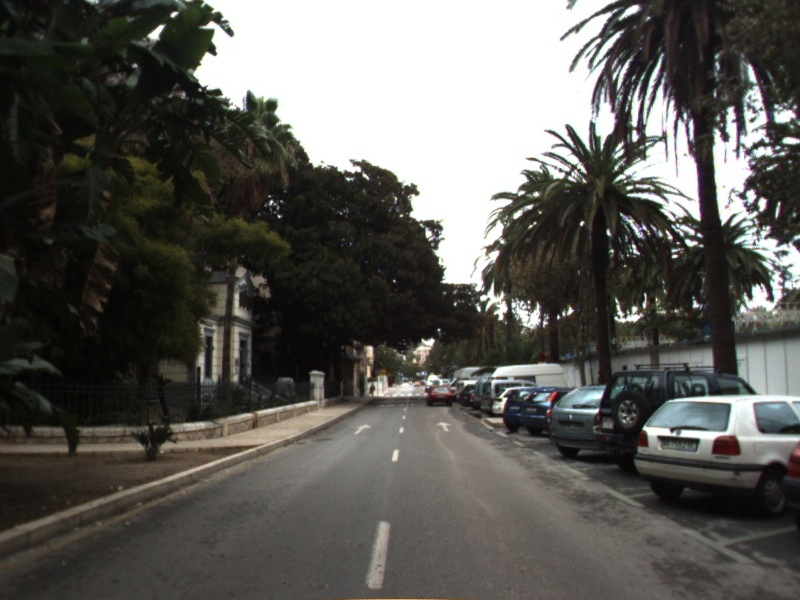STRAIGHT: (352, 422, 374, 436), (434, 420, 455, 433)
